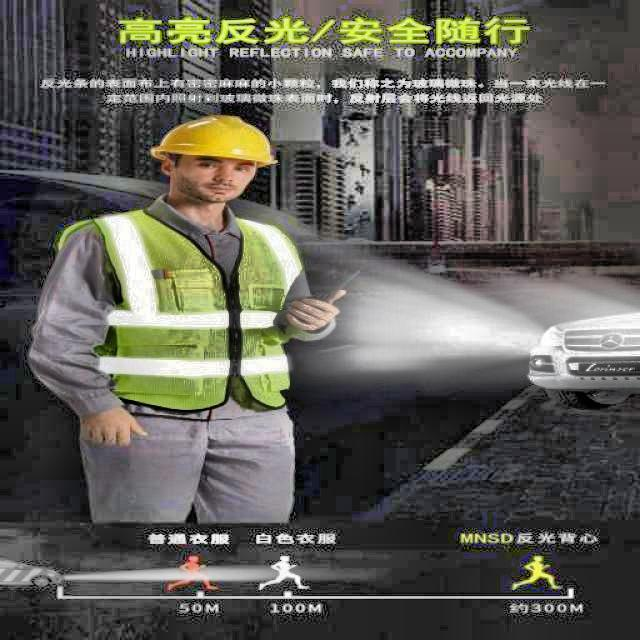safety_jacket: (96, 201, 294, 415)
